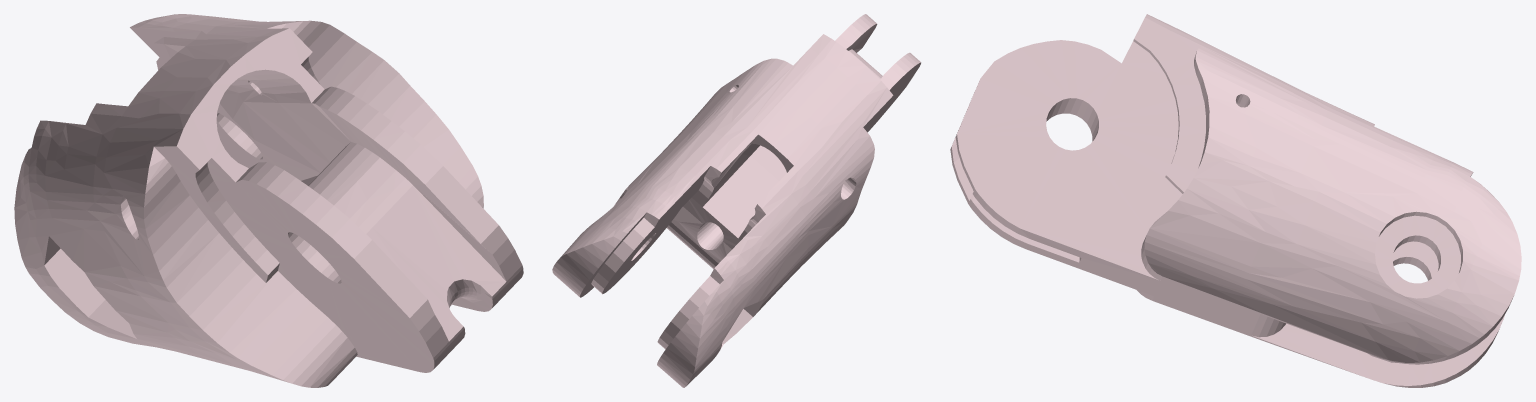
File: i02_rightHand_pinkyMid_visual.obj.balanced.glb
3 renders of one model, left to right at view 1: azimuth 30°, elevation 25°; view 2: azimuth 150°, elevation 25°; view 3: azimuth 270°, elevation 25°, orthographic. The views are drawn at different scales.
Size of the model in its own units: 0.2075 by 0.2597 by 0.3863.
